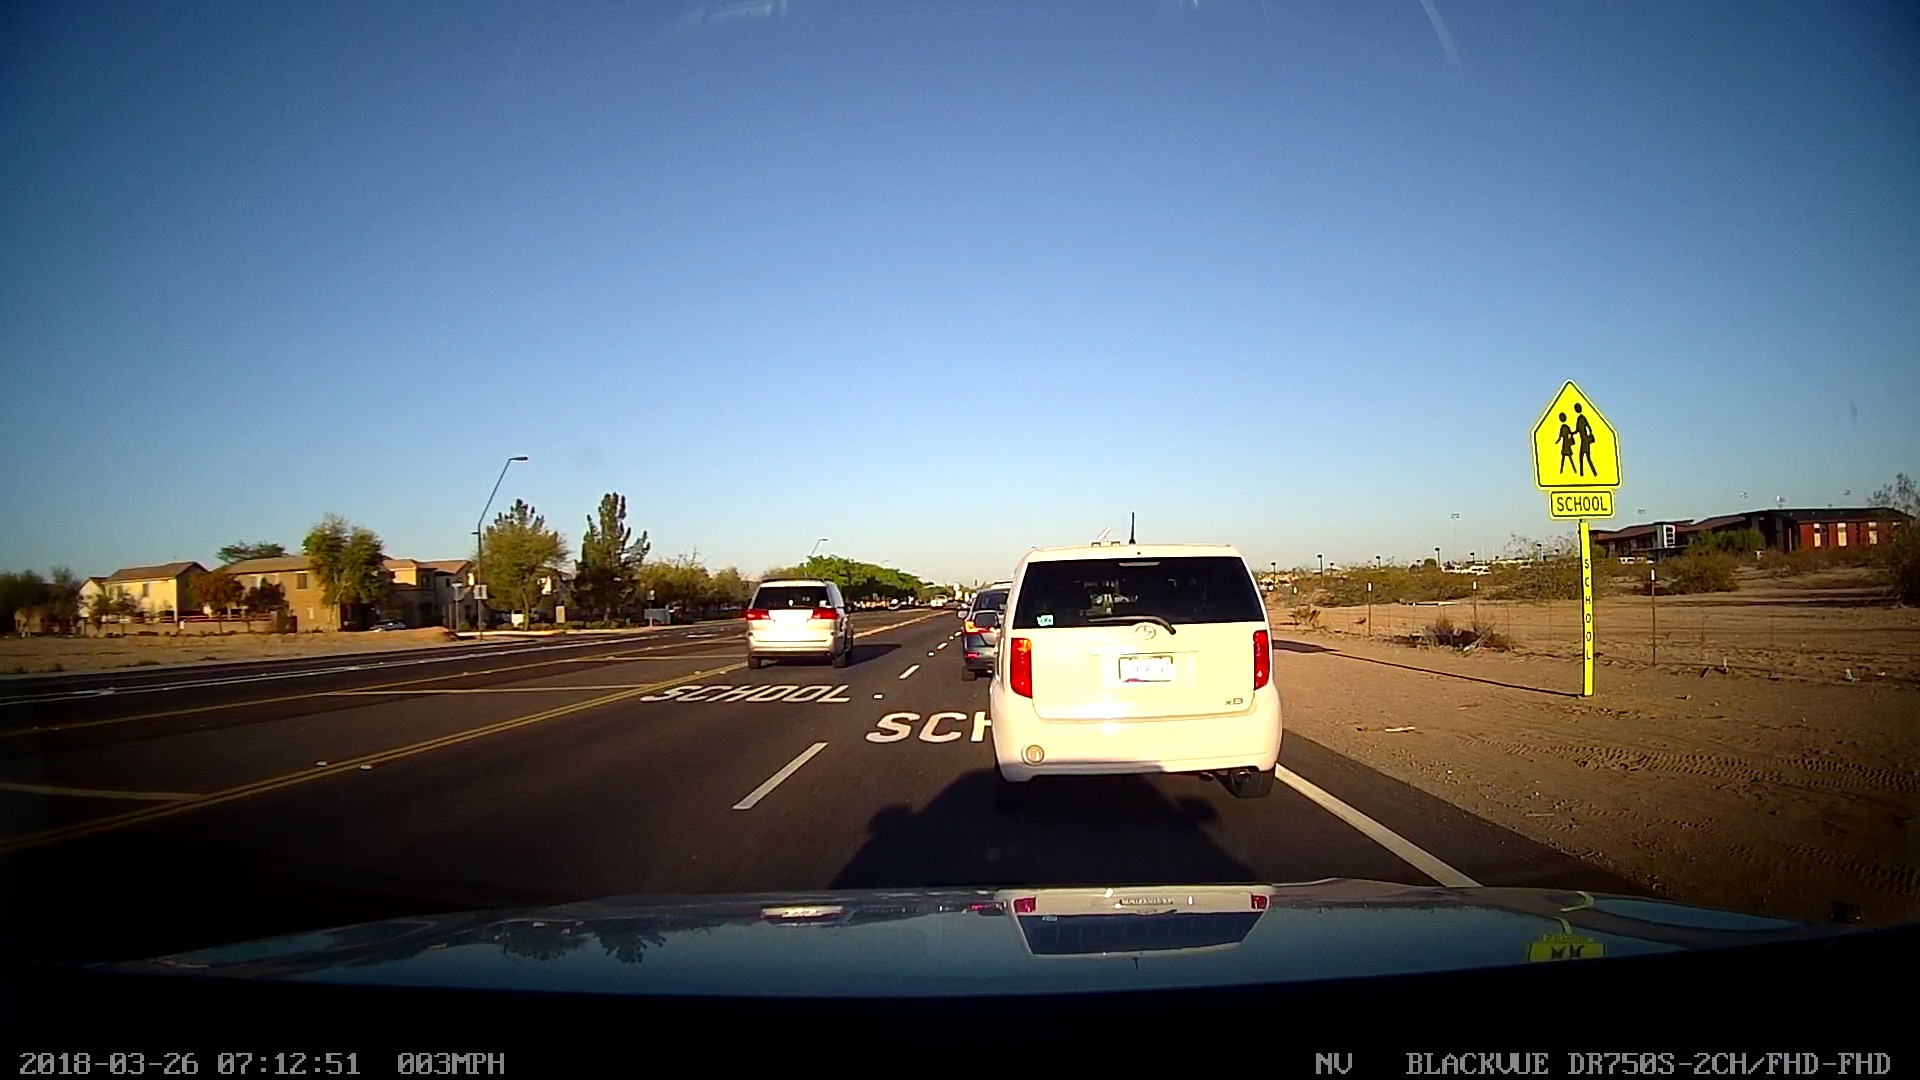plate: (1110, 646, 1183, 690)
vehicle: (980, 537, 1290, 812), (736, 572, 857, 677)
